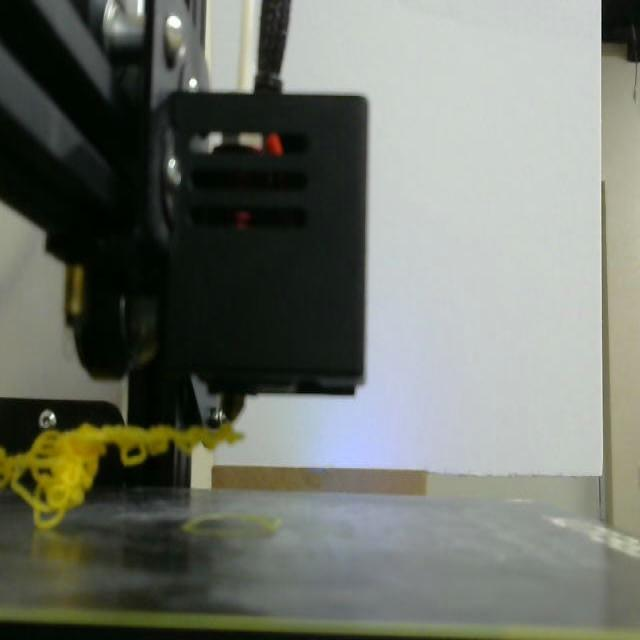spaghetti: (0, 423, 242, 528)
